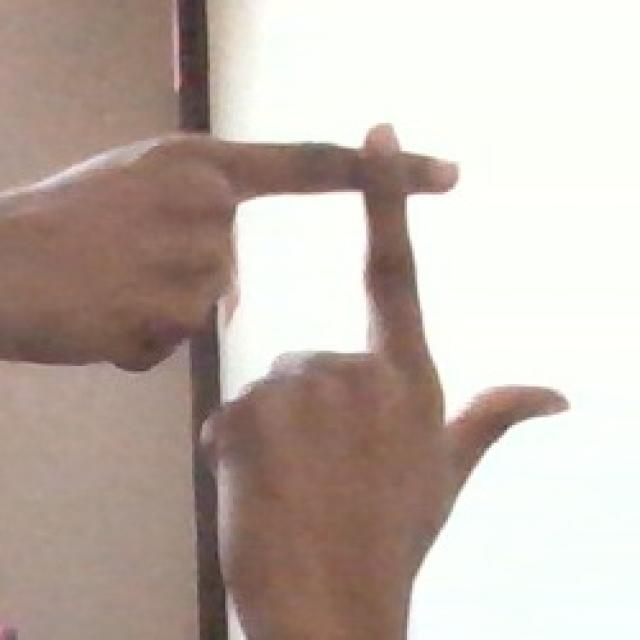Alphabet-J: (78, 110, 572, 598)
